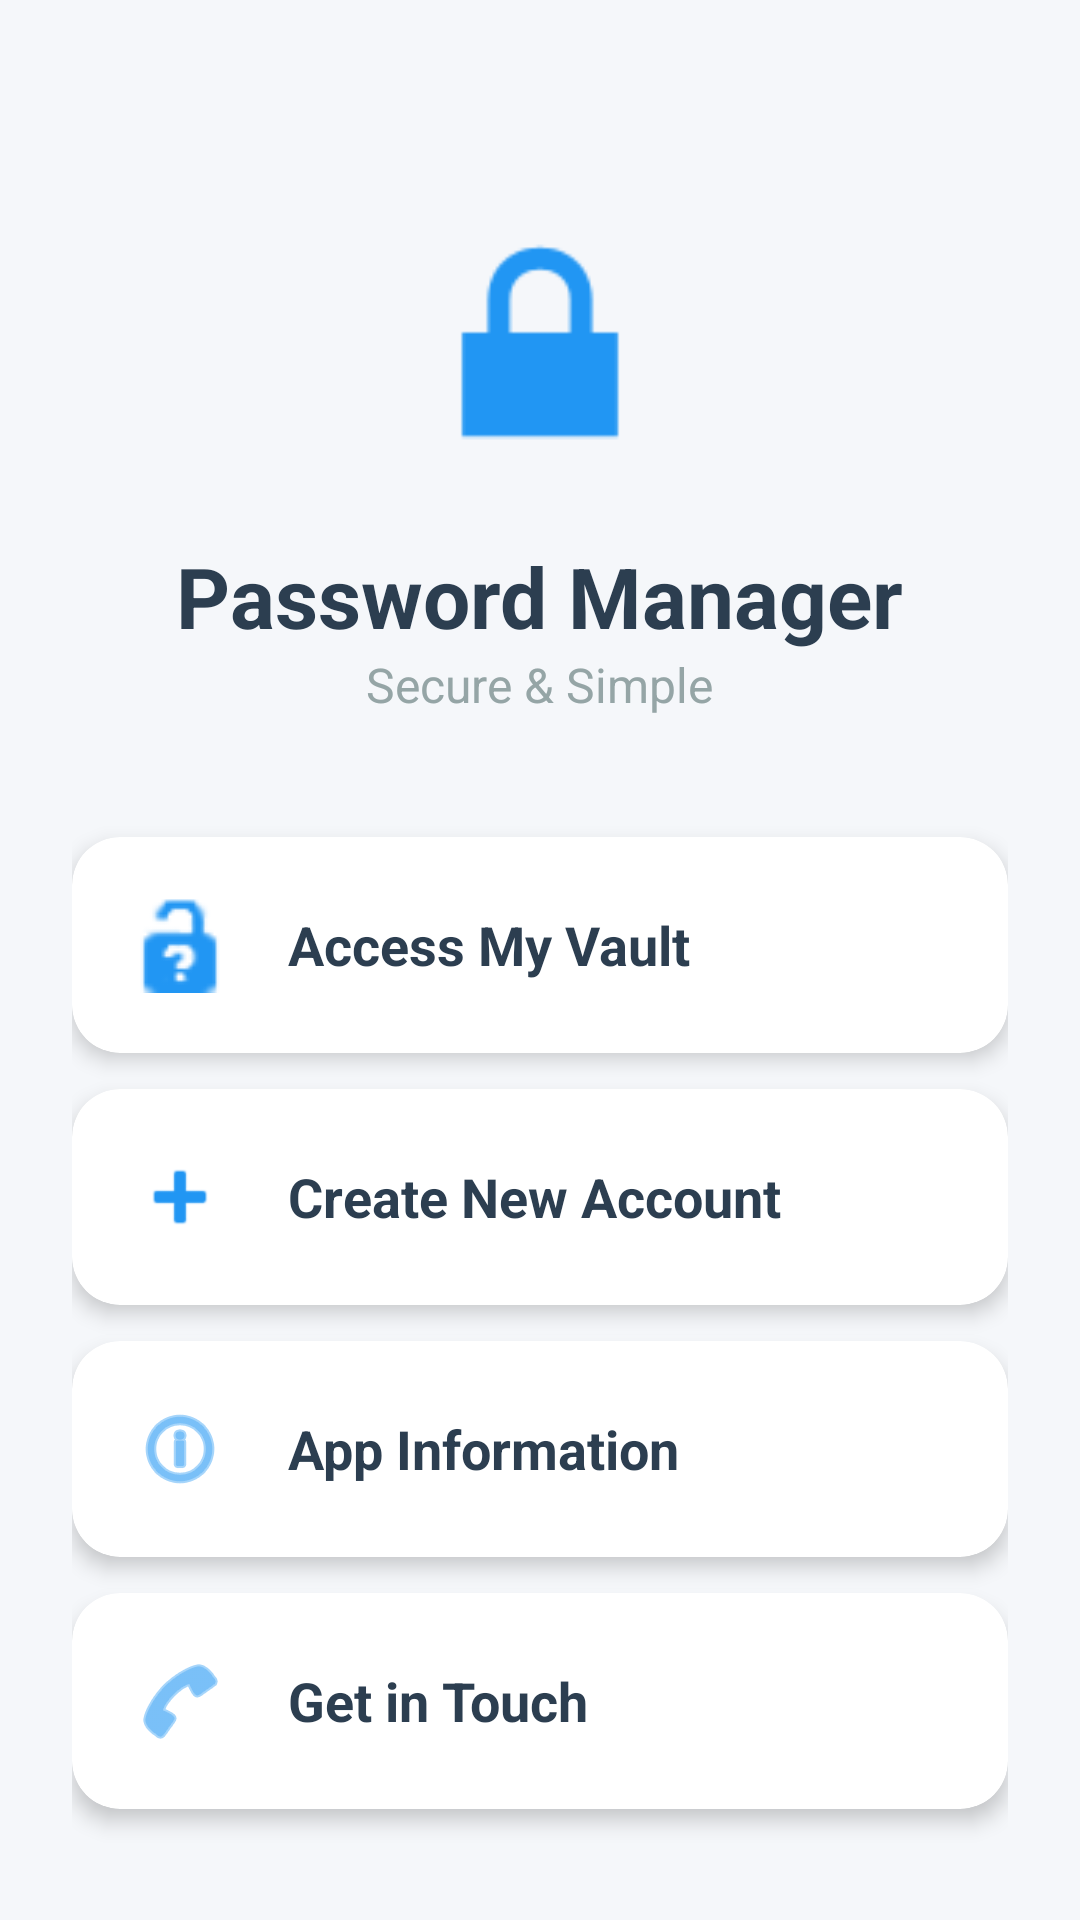

Where icons sit on this 1080px×1920px app screen, as [left=x1, top=y1, right=x2, bottom=y2]:
About Icon: [left=145, top=1414, right=215, bottom=1484]
Contact Icon: [left=143, top=1664, right=218, bottom=1739]
Login Icon: [left=143, top=899, right=217, bottom=993]
Register Icon: [left=153, top=1170, right=207, bottom=1224]
